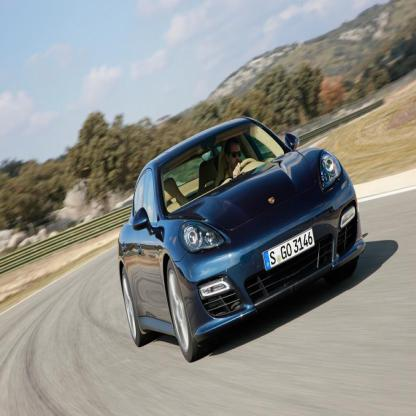Vehicle: (117, 114, 368, 367)
